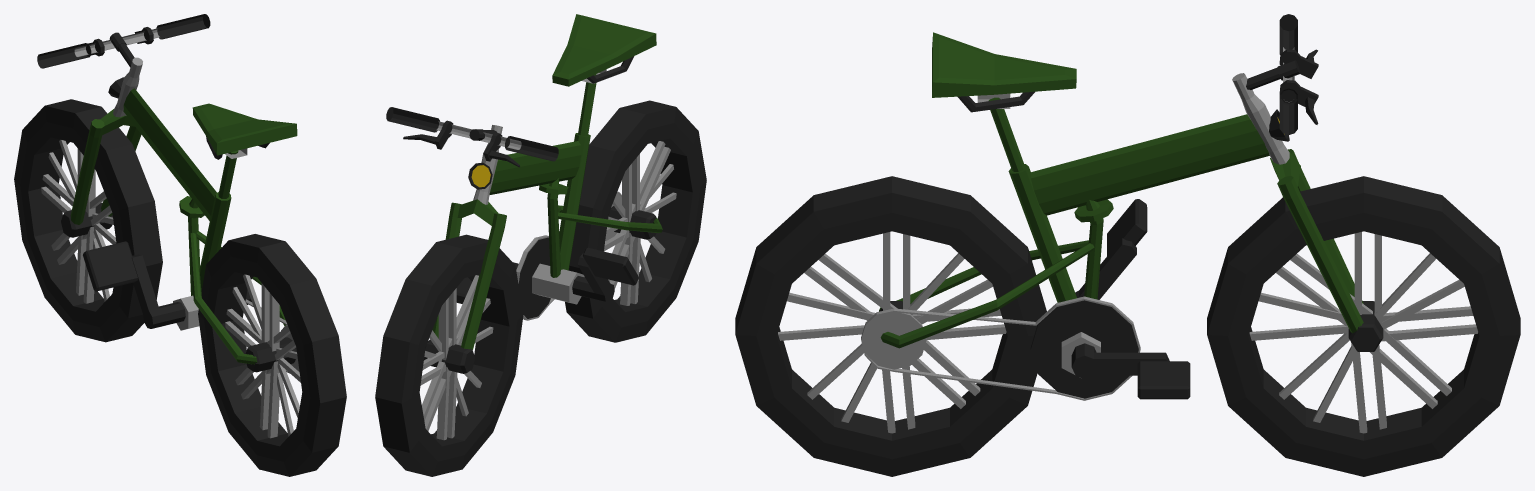
Rendered from ebike.glb.
The picture shows the model from 3 angles, left to right: view 1: azimuth 30°, elevation 25°; view 2: azimuth 150°, elevation 25°; view 3: azimuth 270°, elevation 25°; orthographic projection. The views are drawn at different scales.
Visible parts, largest first — view 1: Bike; view 2: Bike; view 3: Bike.
Boxes of the visible parts, x1,y1,x2,y2 form: Bike: (14,14,346,476); Bike: (375,14,706,476); Bike: (735,14,1520,476).
Bounding box in the file's own units: 0.643 × 1.07 × 1.85.
